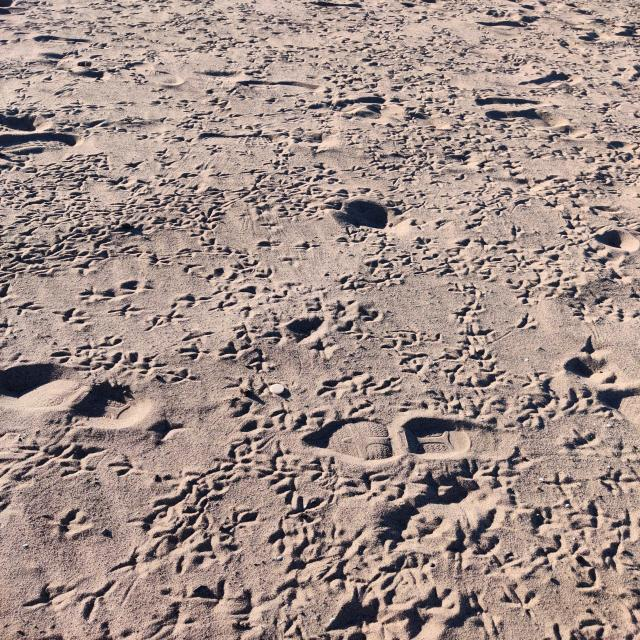litter: (267, 383, 284, 394)
